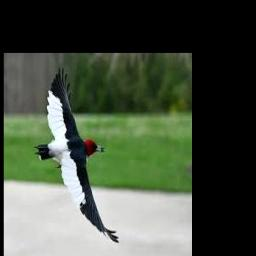Woodpecker: (35, 67, 118, 243)
